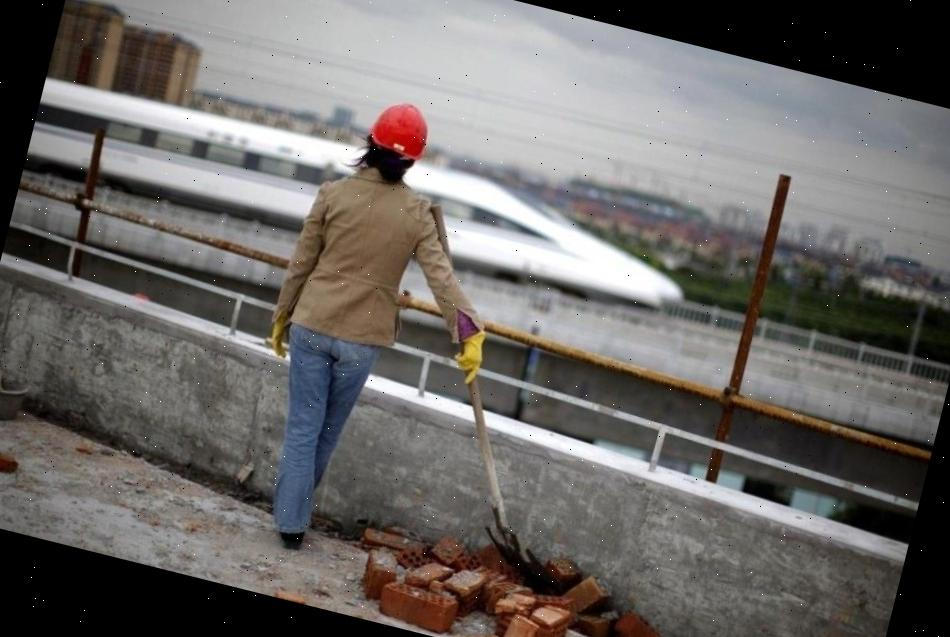helmet: (364, 94, 439, 160)
no_wear: (284, 168, 436, 356)
